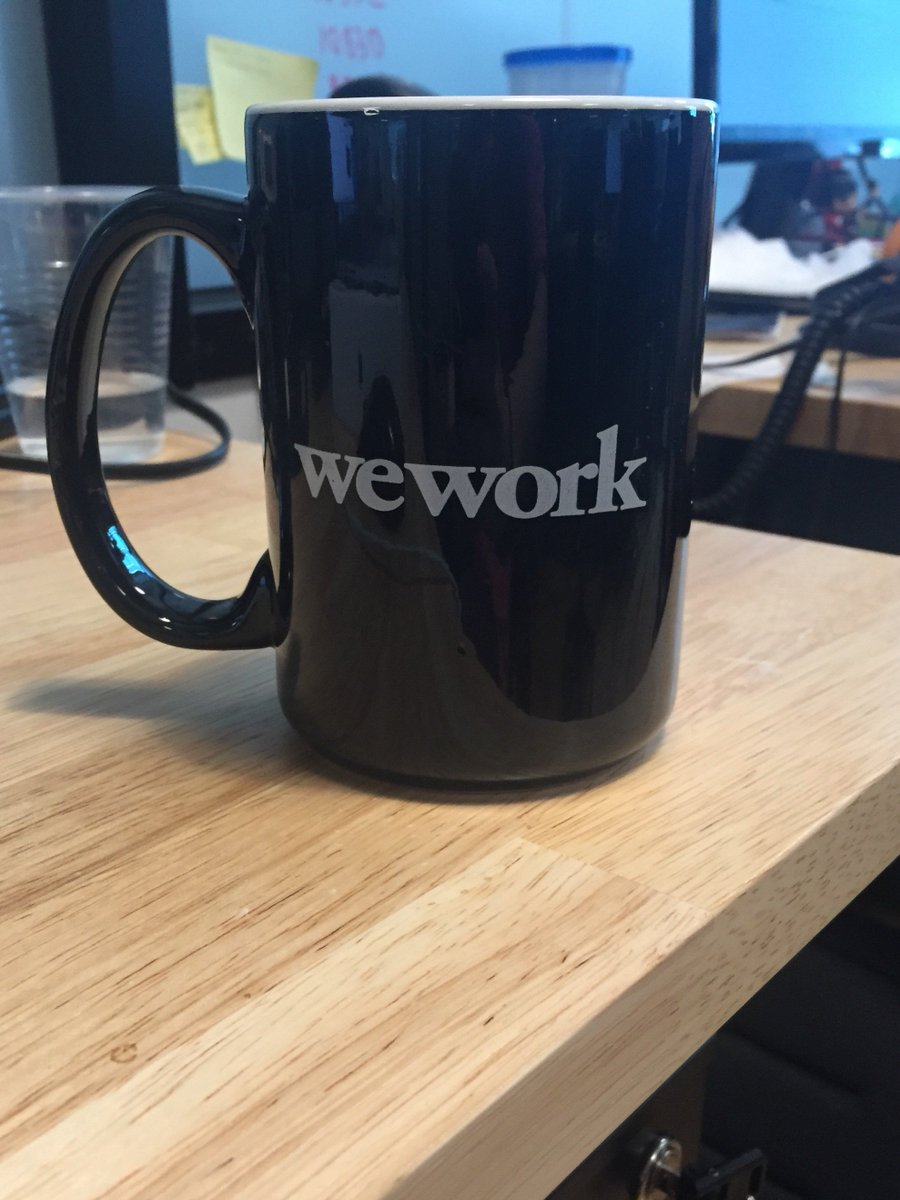wework: (287, 416, 657, 527)
